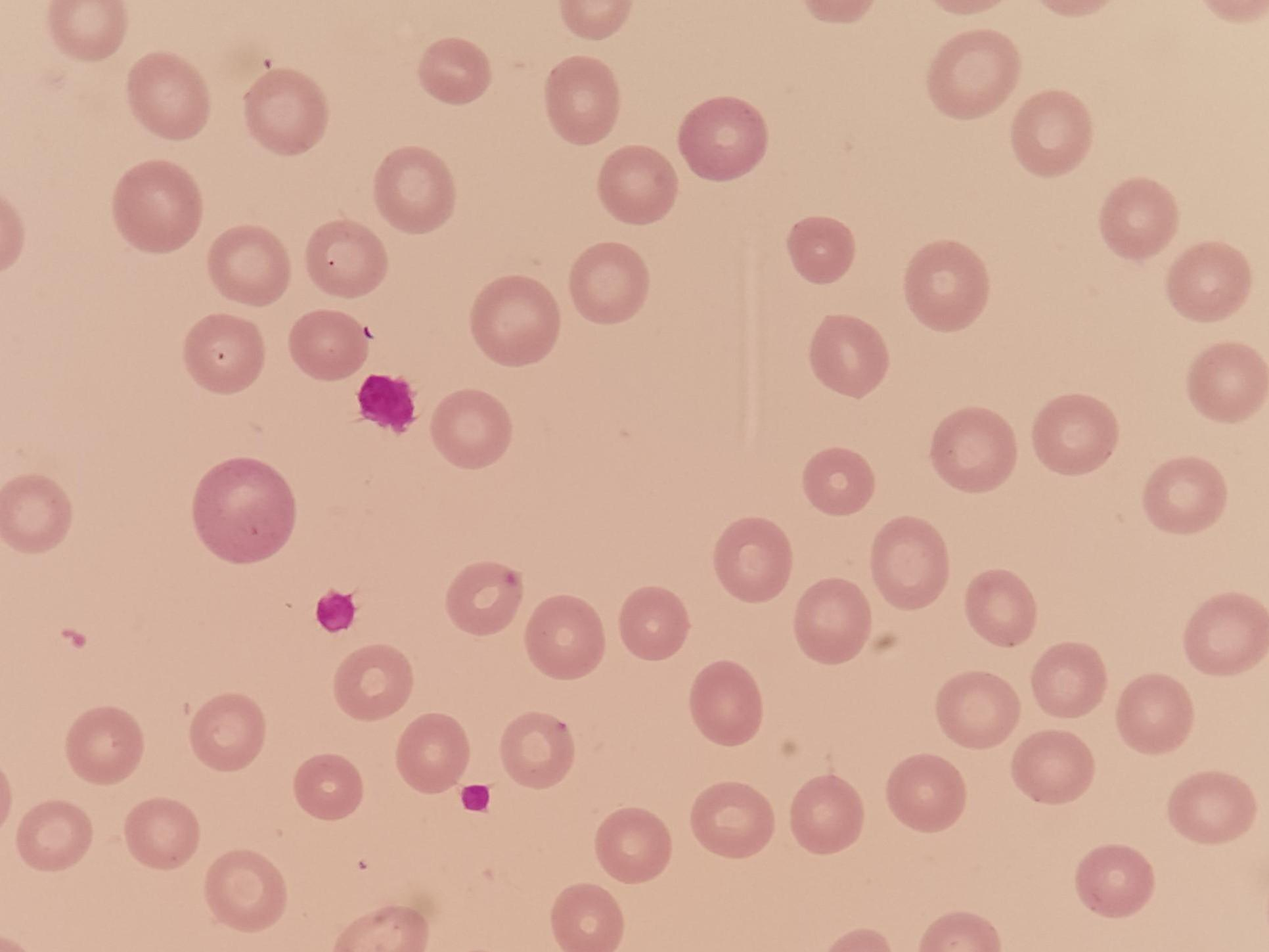Uninfected: (189, 456, 298, 563), (927, 28, 1021, 118), (114, 160, 204, 253), (677, 94, 769, 184), (470, 275, 560, 365), (904, 240, 991, 329), (244, 68, 330, 154), (126, 52, 211, 139), (929, 406, 1017, 490), (372, 147, 456, 233), (1182, 592, 1269, 675), (870, 516, 950, 606), (1031, 393, 1118, 475), (523, 594, 605, 679), (1011, 89, 1093, 173), (203, 850, 287, 932), (1167, 240, 1254, 319), (207, 224, 290, 305), (1186, 340, 1269, 421), (809, 314, 889, 398), (713, 517, 793, 601), (306, 219, 390, 299), (544, 56, 617, 148), (1166, 771, 1256, 845), (183, 313, 265, 394), (430, 389, 511, 470), (569, 242, 649, 324), (690, 782, 773, 861), (793, 579, 871, 663), (935, 670, 1019, 748), (1142, 456, 1227, 533), (885, 754, 967, 833), (689, 660, 764, 746), (188, 692, 268, 772), (66, 706, 145, 786), (1100, 177, 1178, 258), (596, 145, 676, 223), (396, 713, 471, 796), (445, 560, 525, 637), (789, 775, 865, 855), (333, 645, 413, 721), (594, 805, 671, 883), (1012, 731, 1093, 805), (1115, 674, 1191, 752), (500, 712, 575, 790), (1030, 642, 1105, 719), (1075, 846, 1154, 919), (288, 309, 368, 381), (0, 473, 72, 553), (15, 800, 93, 873), (964, 570, 1038, 646), (123, 798, 199, 871), (619, 586, 690, 660), (418, 37, 493, 106), (802, 446, 874, 516), (293, 754, 365, 822), (550, 885, 623, 952), (787, 215, 856, 284), (49, 0, 125, 60), (334, 903, 426, 952)
